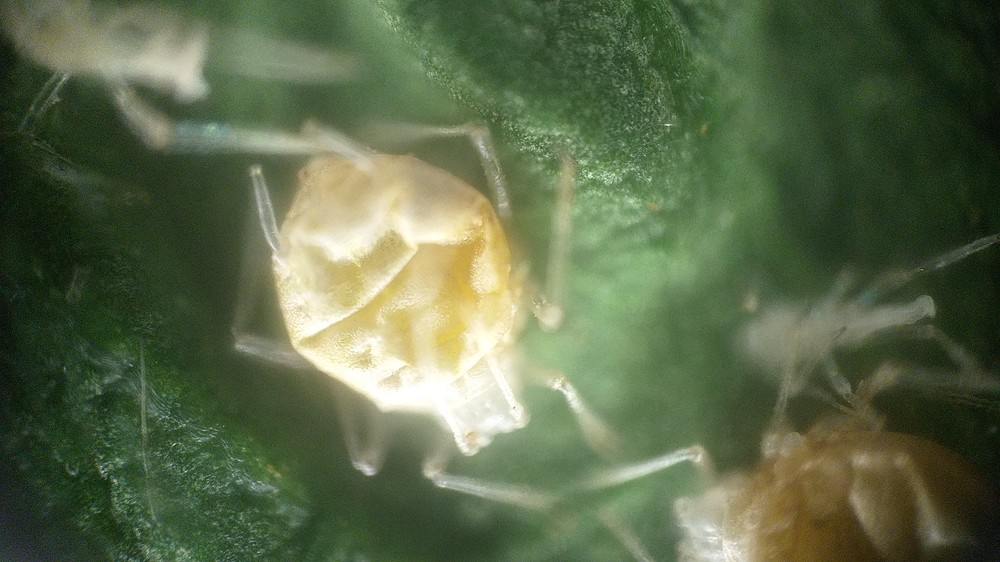Pulgon: (208, 104, 670, 519), (615, 386, 989, 562)
